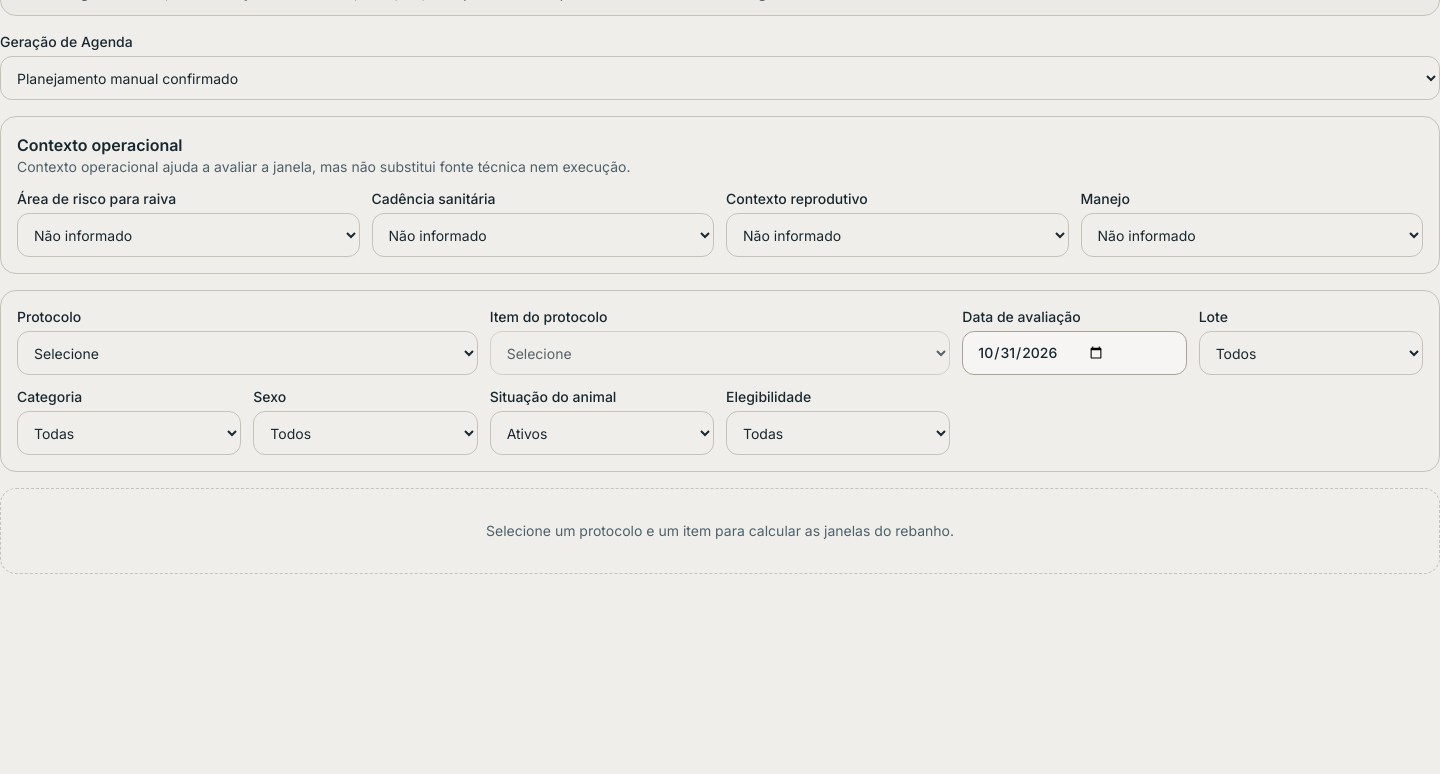
it: SanitaryProtocolWindowPanelV2 › recalcula a janela quando o contexto operacional muda
Select "Raiva dos herbívoros" in the dropdown named "Selecionar protocolo" at (247, 353), box [17,331,478,375]
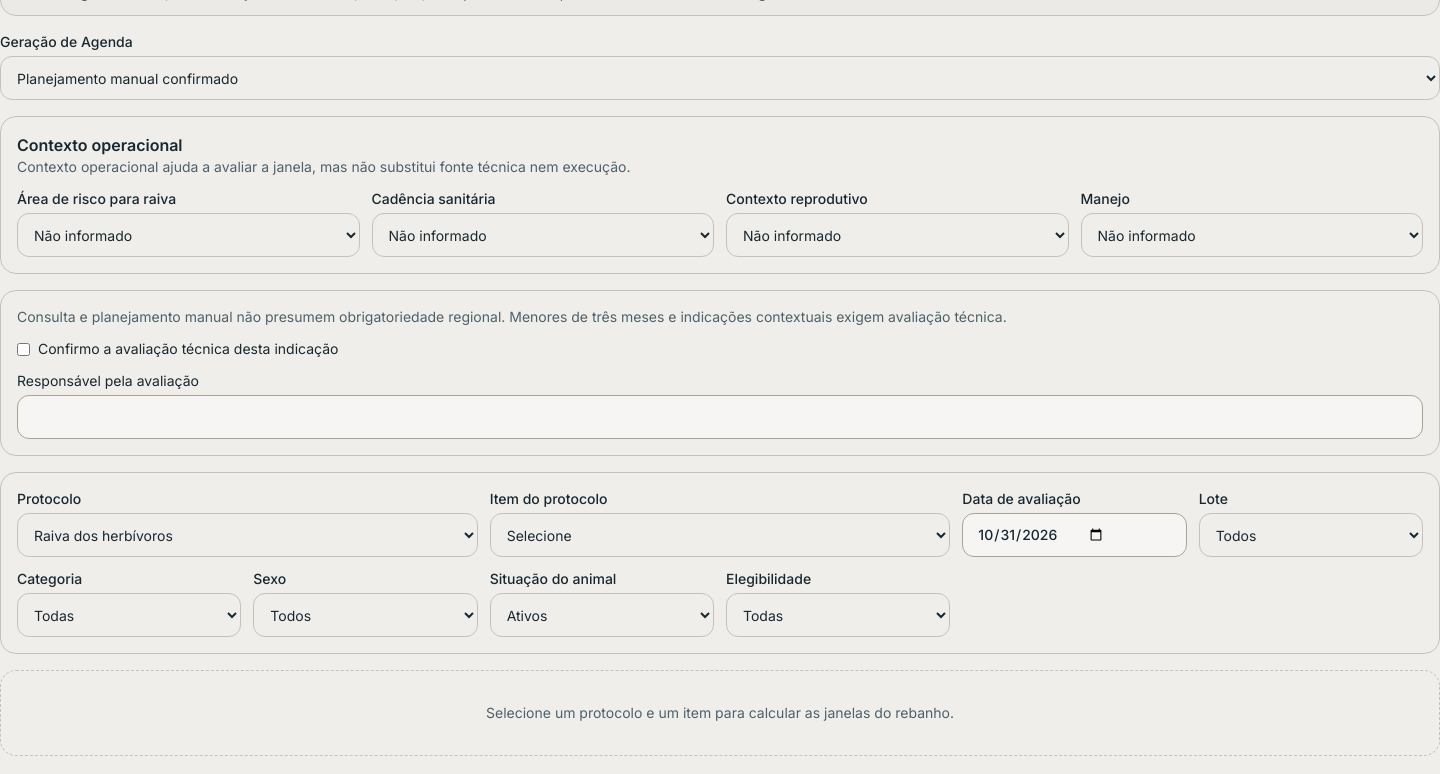
Select "Primovacinação — dose 1" in the dropdown named "Selecionar item do protocolo" at (720, 535), box [490,513,950,557]
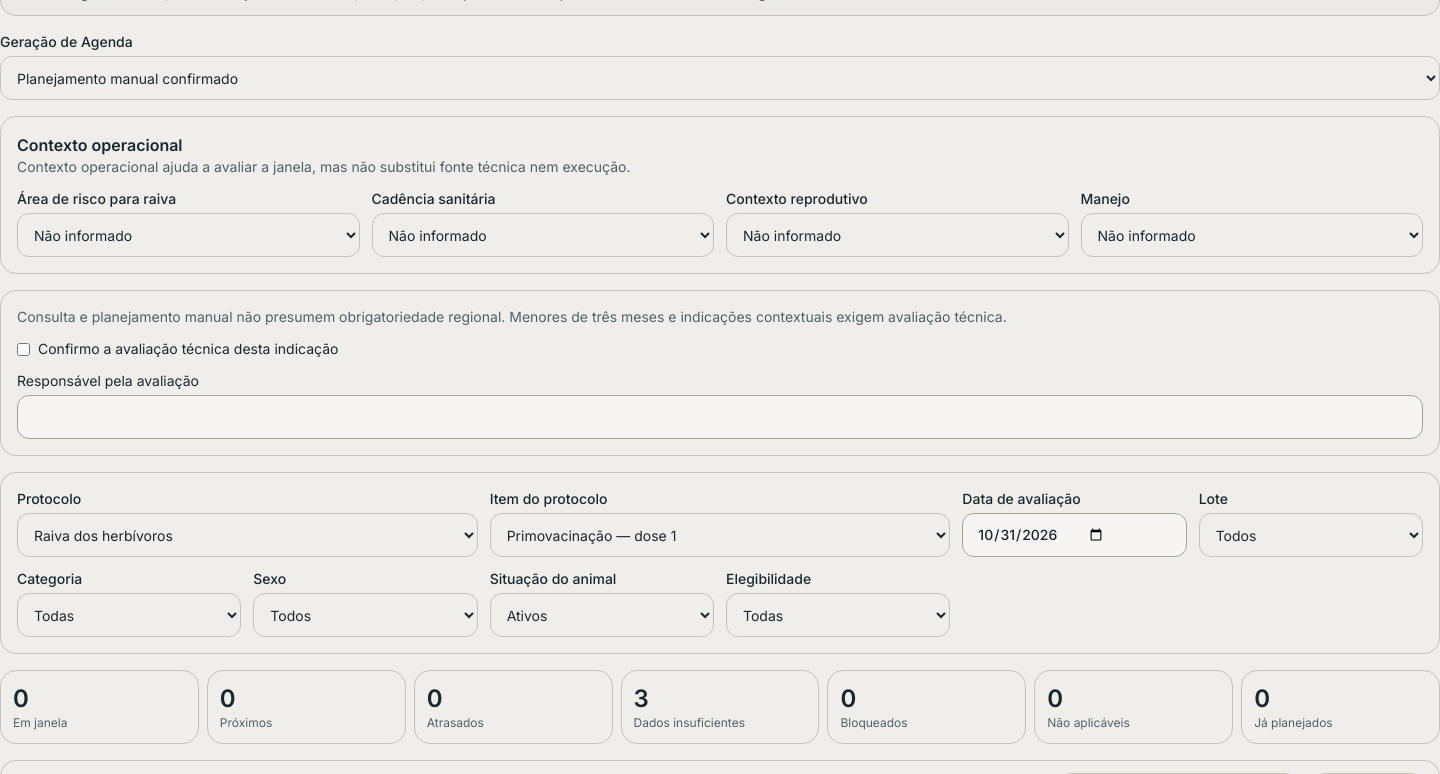
Select "Sim" in the dropdown labelled "Área de risco para raiva" at (188, 235), box [17,213,360,257]
(page scrolled)
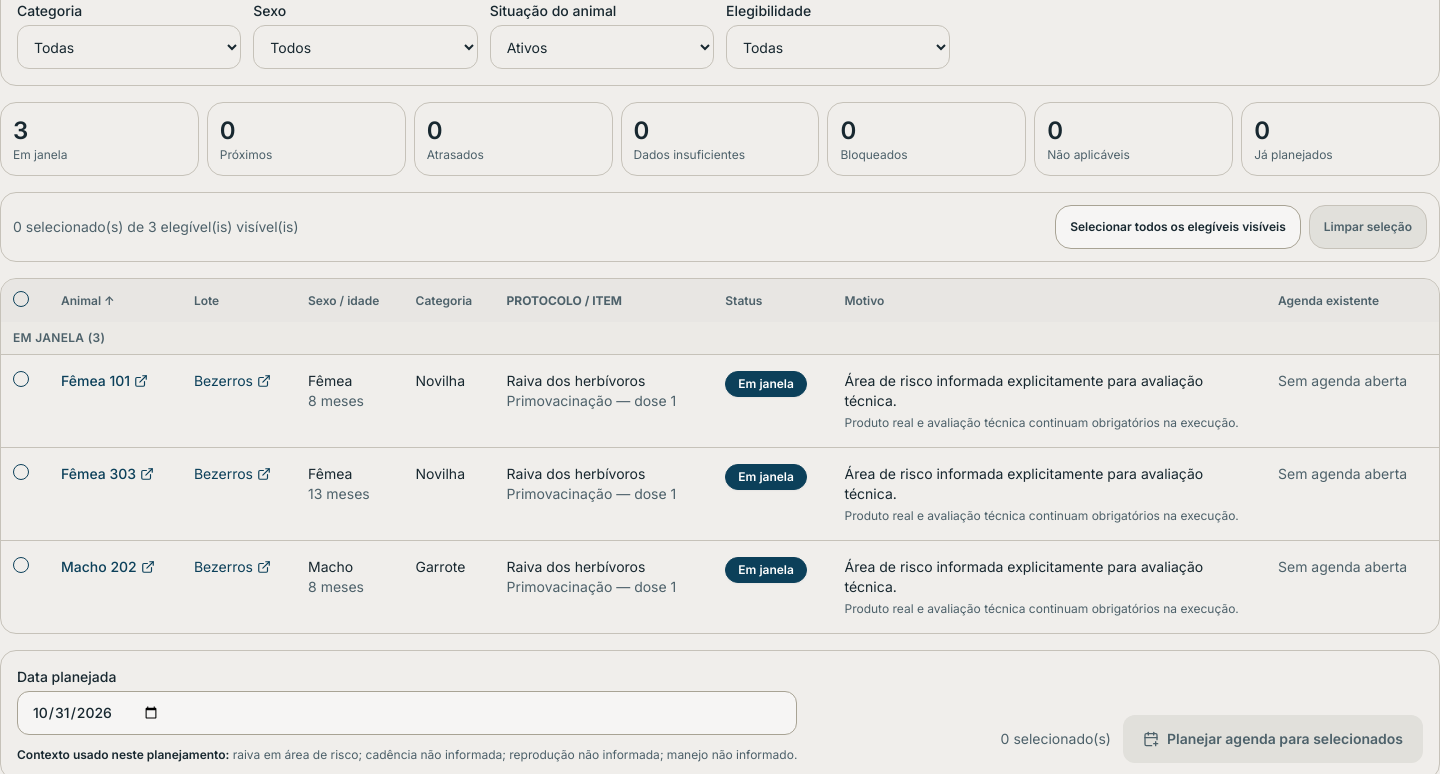
Expected: the checkbox named "Selecionar Fêmea 101" is enabled, [13,371,29,387]
Expected: the text "raiva em área de risco" is shown, [17,747,797,763]
